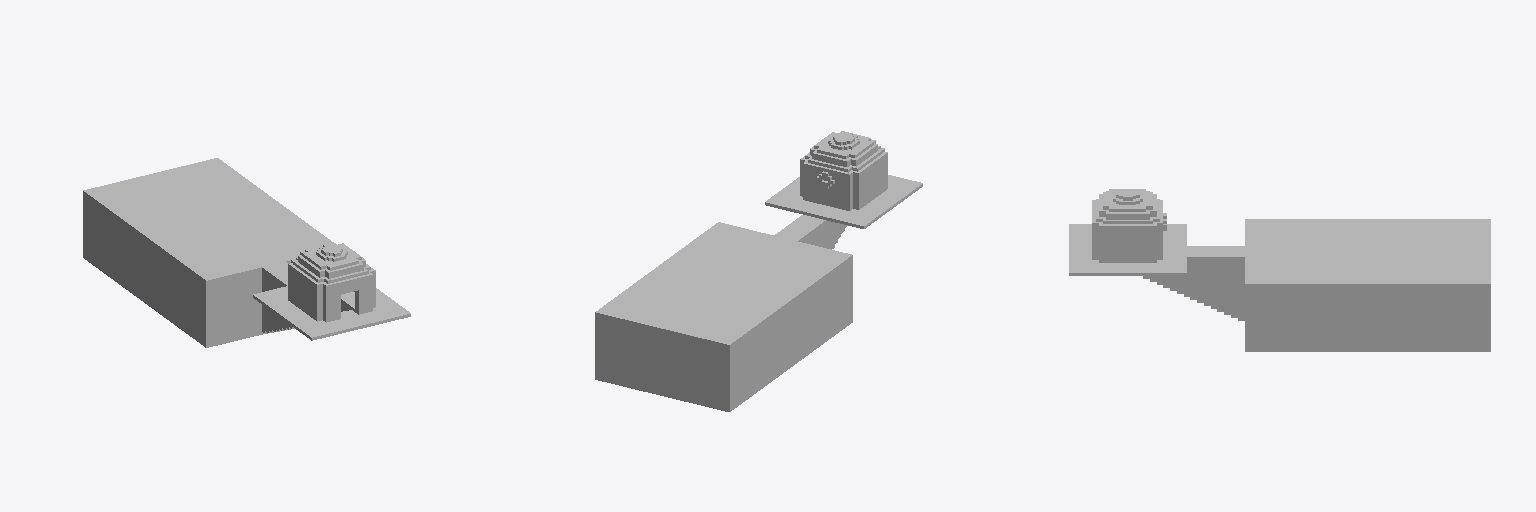
File: 03_center_room_2X_02.obj
3 views of the same model, side by side, from view 1: azimuth 30°, elevation 25°; view 2: azimuth 150°, elevation 25°; view 3: azimuth 270°, elevation 25° (orthographic).
Bounding box in the file's own units: 46 × 41 × 125.